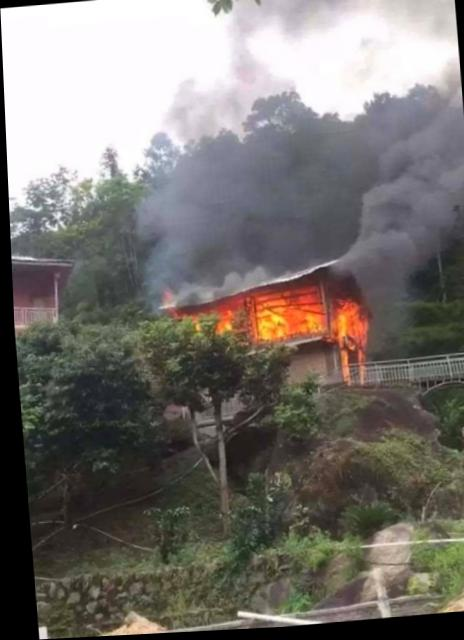fire: (180, 284, 371, 371)
